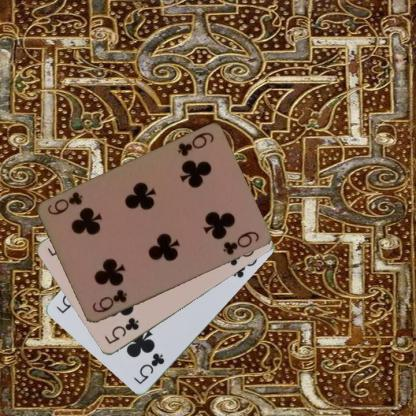5c: (130, 350, 166, 386), (102, 315, 140, 346)
6c: (174, 130, 215, 158), (89, 287, 129, 314)
